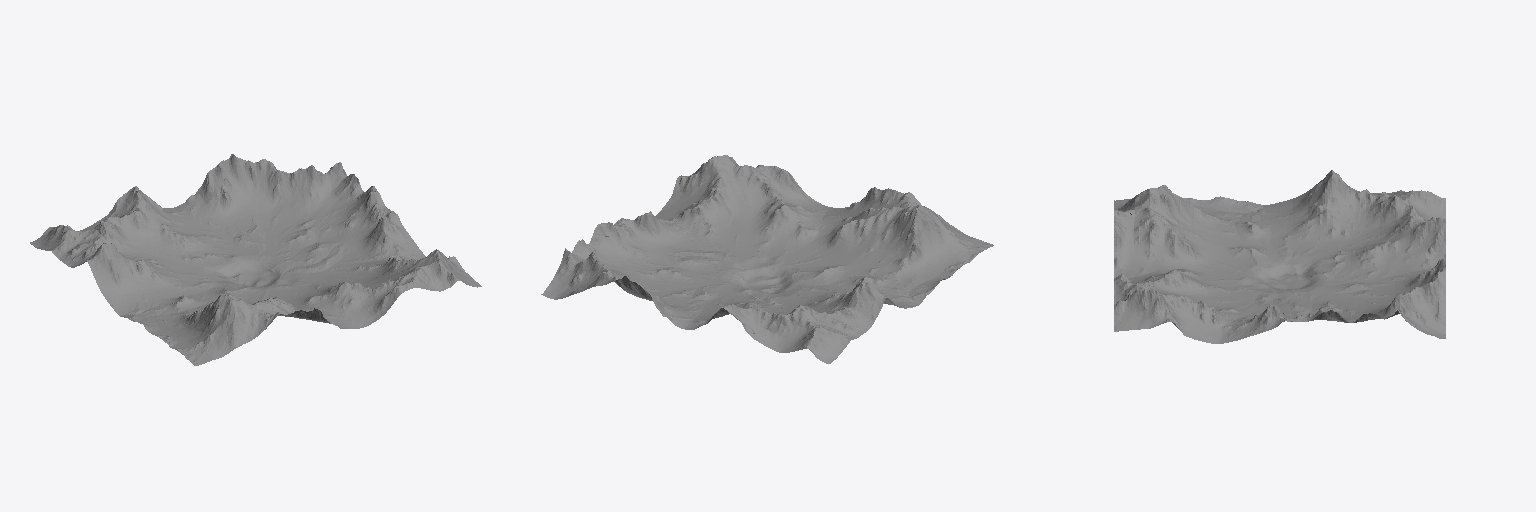
Rendered from TerrainMesh.obj.
3 views of the same model, side by side, from view 1: azimuth 30°, elevation 25°; view 2: azimuth 150°, elevation 25°; view 3: azimuth 270°, elevation 25° (orthographic).
Visible parts, largest first — view 1: lakes; view 2: lakes; view 3: lakes.
Part boxes in pixels (left/top/right/bottom): lakes: left=30, top=154, right=481, bottom=365; lakes: left=541, top=155, right=993, bottom=363; lakes: left=1114, top=170, right=1445, bottom=343.
Size of the model in its own units: 1024 by 184 by 1024.